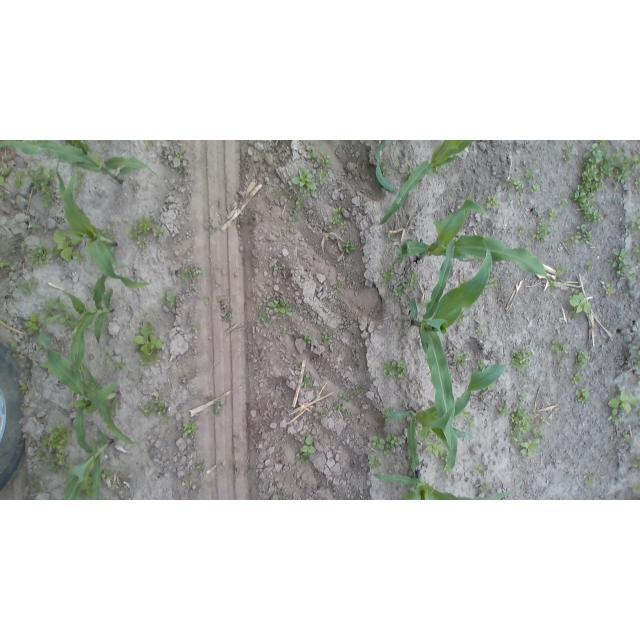Maize: (410, 235, 494, 471), (399, 199, 557, 292), (389, 361, 521, 471), (40, 314, 135, 446), (56, 159, 151, 290), (63, 264, 129, 404), (376, 141, 473, 228), (1, 142, 160, 185), (58, 425, 115, 500), (371, 472, 523, 500), (372, 140, 396, 193)
Weeds: (571, 141, 640, 220), (36, 424, 69, 472), (129, 320, 163, 364), (25, 163, 58, 206), (607, 245, 636, 280), (43, 297, 76, 326), (509, 404, 534, 440), (370, 434, 402, 459), (130, 214, 152, 247), (52, 228, 73, 262), (290, 168, 316, 194), (609, 390, 637, 414), (25, 244, 51, 269), (569, 289, 590, 319), (563, 223, 593, 244), (139, 398, 168, 419), (329, 204, 349, 232), (266, 297, 293, 317), (306, 146, 330, 168), (176, 267, 206, 282), (384, 359, 405, 380), (534, 219, 555, 240), (301, 435, 317, 461), (509, 349, 533, 366), (25, 310, 40, 336), (520, 438, 541, 456), (455, 350, 470, 373), (165, 290, 182, 310), (508, 175, 524, 196), (20, 278, 37, 294), (402, 272, 418, 289), (425, 441, 444, 455), (335, 394, 350, 411), (1, 165, 12, 188), (341, 237, 359, 251), (574, 349, 588, 367), (551, 340, 569, 354), (72, 249, 87, 264), (576, 388, 591, 403), (15, 167, 25, 189), (562, 140, 571, 164), (11, 240, 26, 254), (601, 281, 616, 295), (485, 194, 499, 209), (289, 209, 302, 224), (183, 422, 196, 436), (633, 347, 640, 373), (152, 224, 166, 237), (32, 478, 43, 493), (320, 168, 329, 186), (631, 213, 639, 233), (572, 372, 583, 386), (300, 372, 310, 387), (369, 458, 383, 468), (517, 393, 532, 402), (103, 467, 114, 479), (393, 286, 404, 298), (500, 404, 509, 418), (275, 188, 289, 197), (384, 268, 395, 279), (531, 181, 542, 192), (259, 313, 271, 323), (1, 257, 10, 270), (525, 171, 535, 182), (476, 466, 485, 478), (295, 198, 307, 207), (556, 265, 568, 274), (392, 460, 402, 470), (174, 152, 184, 162), (23, 401, 32, 412), (588, 475, 597, 486), (12, 342, 21, 352), (477, 362, 487, 371), (549, 208, 558, 217), (255, 364, 265, 372), (382, 164, 389, 175), (533, 430, 544, 437), (404, 165, 410, 177), (21, 385, 29, 394), (162, 417, 171, 425), (466, 418, 475, 426), (304, 336, 313, 344), (559, 198, 567, 207), (474, 330, 484, 337), (483, 483, 493, 490), (353, 387, 364, 393), (0, 192, 8, 200), (320, 411, 328, 419), (389, 233, 398, 240), (220, 397, 227, 406), (586, 261, 595, 268), (491, 278, 498, 287), (633, 178, 640, 187), (189, 475, 194, 487), (280, 328, 288, 335), (635, 456, 640, 467), (623, 432, 629, 441), (633, 246, 639, 255), (274, 265, 281, 272), (141, 314, 149, 320), (462, 408, 470, 414), (114, 363, 122, 369), (321, 334, 329, 340), (383, 412, 389, 420), (194, 464, 202, 470), (193, 326, 200, 332), (338, 284, 343, 292), (520, 225, 525, 231)
